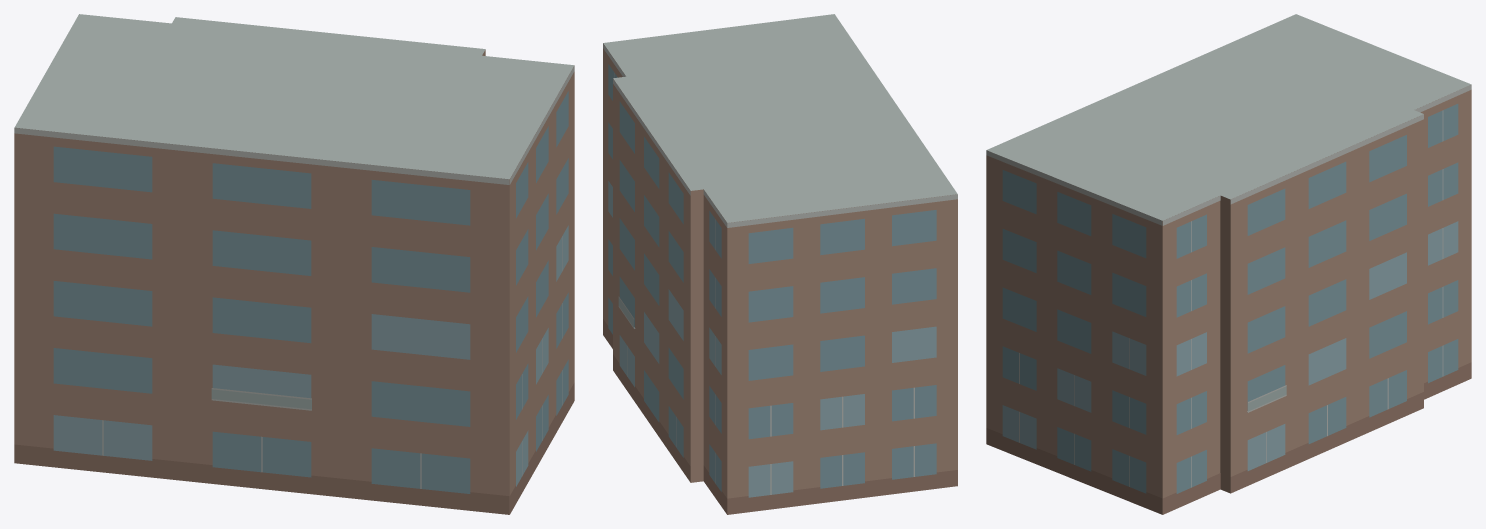
Rendered from survey-upis-32749973.glb.
3 views of the same model, side by side, from view 1: azimuth 30°, elevation 25°; view 2: azimuth 150°, elevation 25°; view 3: azimuth 270°, elevation 25° (orthographic). The views are drawn at different scales.
Visible parts, largest first — view 1: survey-upis-32749973.tmp; view 2: survey-upis-32749973.tmp; view 3: survey-upis-32749973.tmp.
Part boxes in pixels (bbox=[...]): survey-upis-32749973.tmp: bbox=[14, 14, 574, 514]; survey-upis-32749973.tmp: bbox=[603, 14, 957, 514]; survey-upis-32749973.tmp: bbox=[986, 14, 1471, 514].
Size of the model in its own units: 21.13 by 14 by 20.95.
